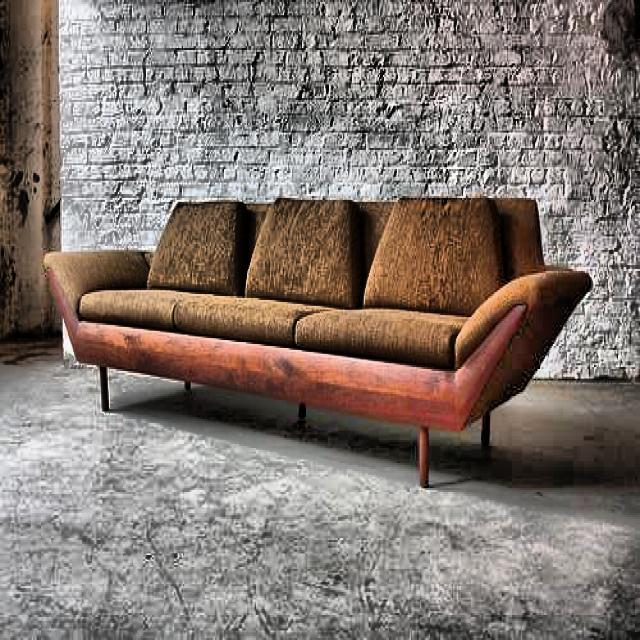sofa: (45, 198, 593, 488)
